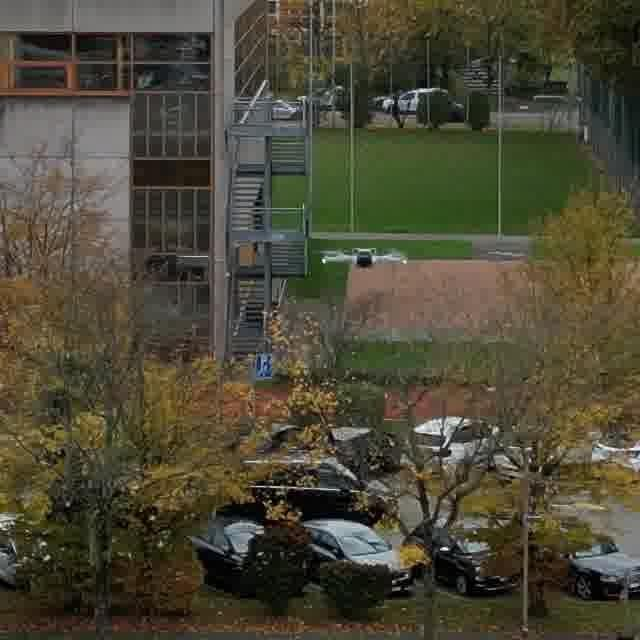Drohne: (323, 248, 407, 267)
